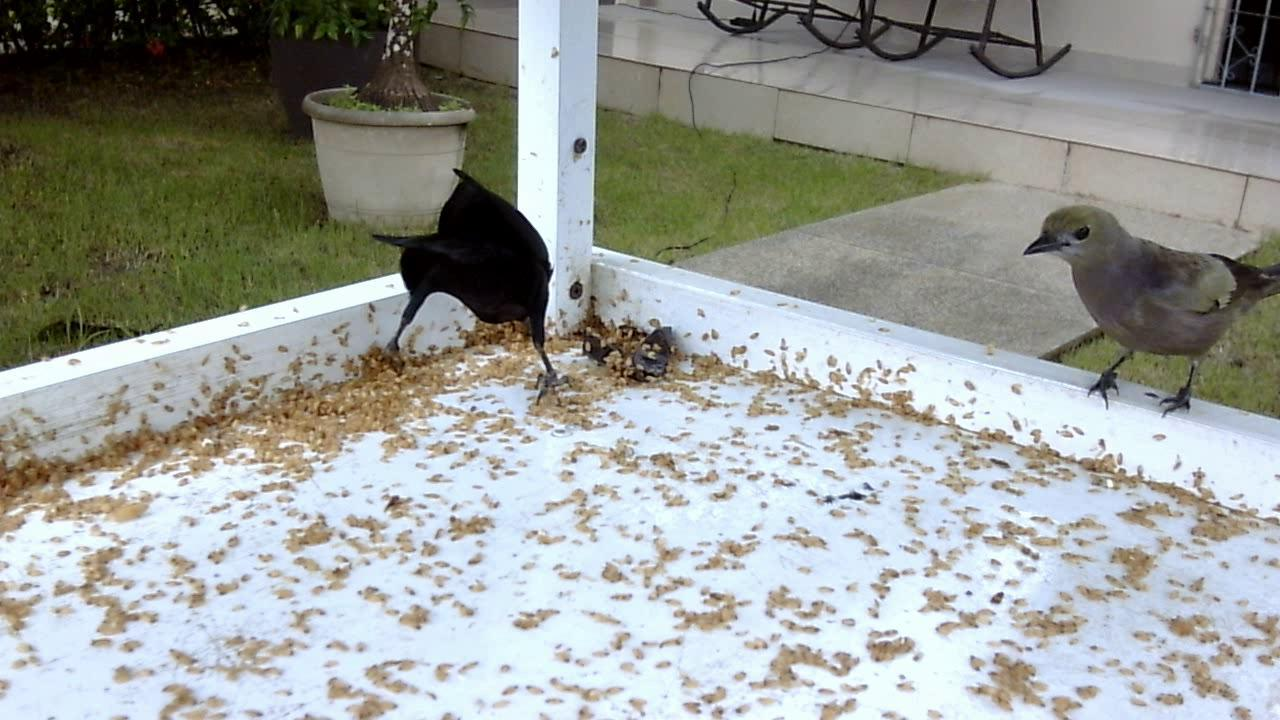chupim: (362, 162, 572, 406)
sanhaco_do_coqueiro: (1015, 193, 1278, 431)
